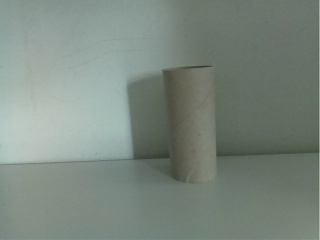rollo papel: (159, 65, 217, 183)
